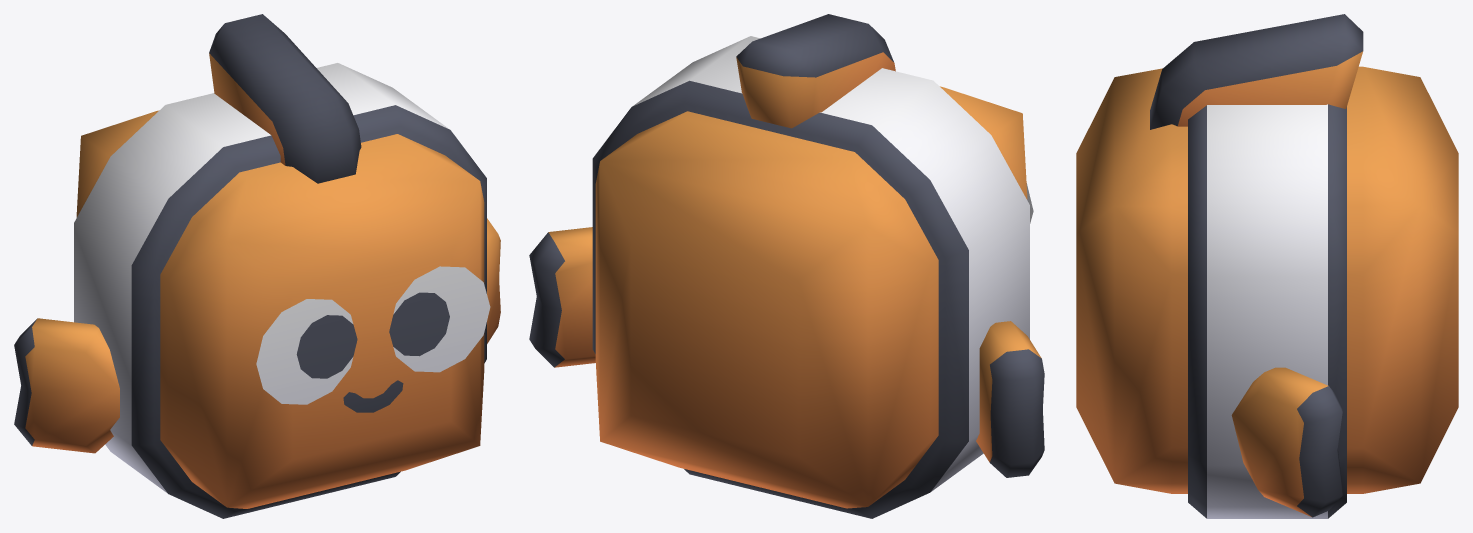
File: fish.glb
3 renders of one model, left to right at view 1: azimuth 30°, elevation 25°; view 2: azimuth 150°, elevation 25°; view 3: azimuth 270°, elevation 25°, orthographic. The views are drawn at different scales.
Visible parts, largest first — view 1: body, wing-right, wing-left; view 2: body, wing-right, wing-left; view 3: body, wing-left.
Boxes of the visible parts, box(x1,y1,x2,y2) form: body: box(74, 14, 490, 518); wing-right: box(14, 318, 119, 453); wing-left: box(487, 218, 500, 343); body: box(592, 14, 1033, 518); wing-right: box(976, 321, 1044, 477); wing-left: box(529, 227, 595, 367); body: box(1076, 14, 1458, 518); wing-left: box(1231, 367, 1342, 517).
Size of the model in its own units: 1.88 by 1.63 by 1.26.
1 material, 1 textured.
